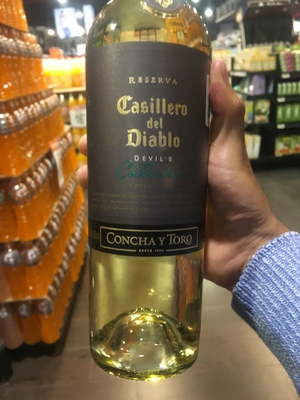casillero del diablo devils collection verde: (61, 8, 220, 384)
